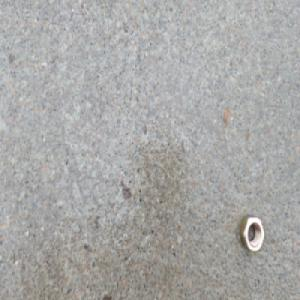Nut: (238, 212, 265, 254)
